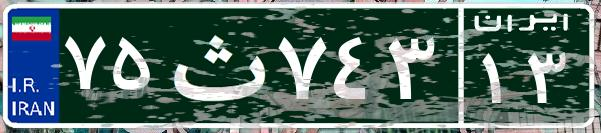1: (475, 38, 525, 113)
3: (385, 28, 445, 110), (525, 38, 570, 115)
4: (330, 28, 385, 110)
5: (110, 28, 158, 105)
7: (273, 28, 330, 110), (57, 26, 110, 107)
ث: (158, 15, 273, 115)
